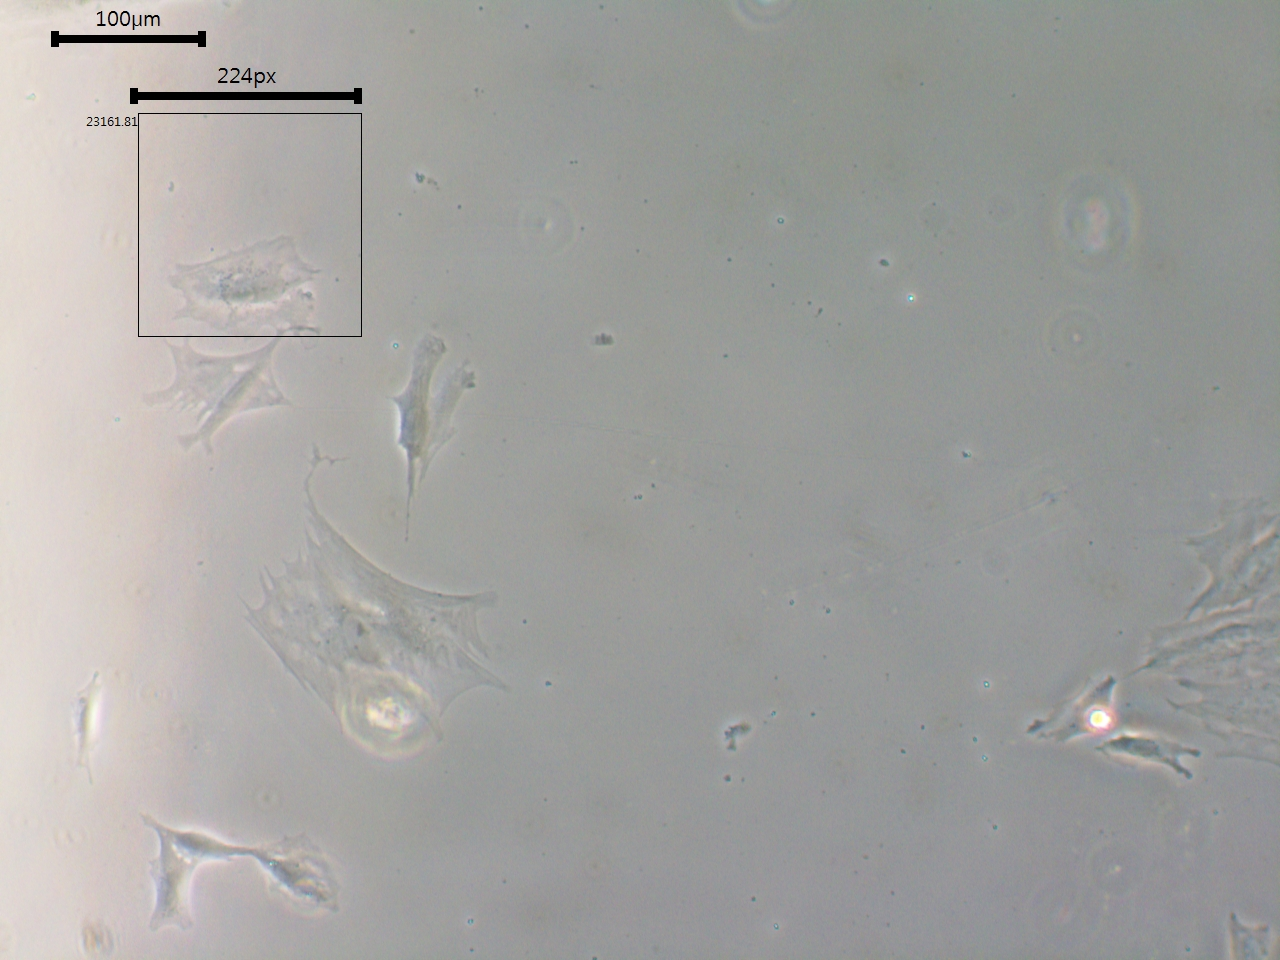large-spread: (228, 470, 525, 775)
medium-polygonal: (389, 323, 481, 544)
medium-spread: (166, 226, 326, 327)
small-polygonal: (1099, 730, 1208, 793), (136, 809, 246, 867)
